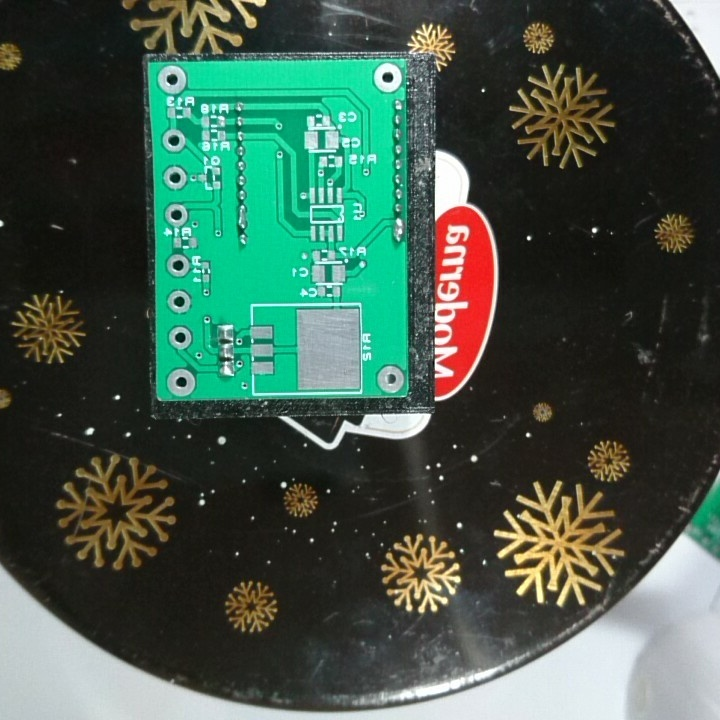F: (156, 63, 191, 97), (162, 366, 199, 398), (372, 62, 404, 94), (374, 363, 405, 392), (162, 252, 194, 280), (160, 200, 190, 229), (159, 126, 188, 155), (166, 323, 194, 352), (160, 163, 188, 192), (164, 289, 193, 316)
P: (234, 202, 249, 230), (391, 217, 405, 244)
